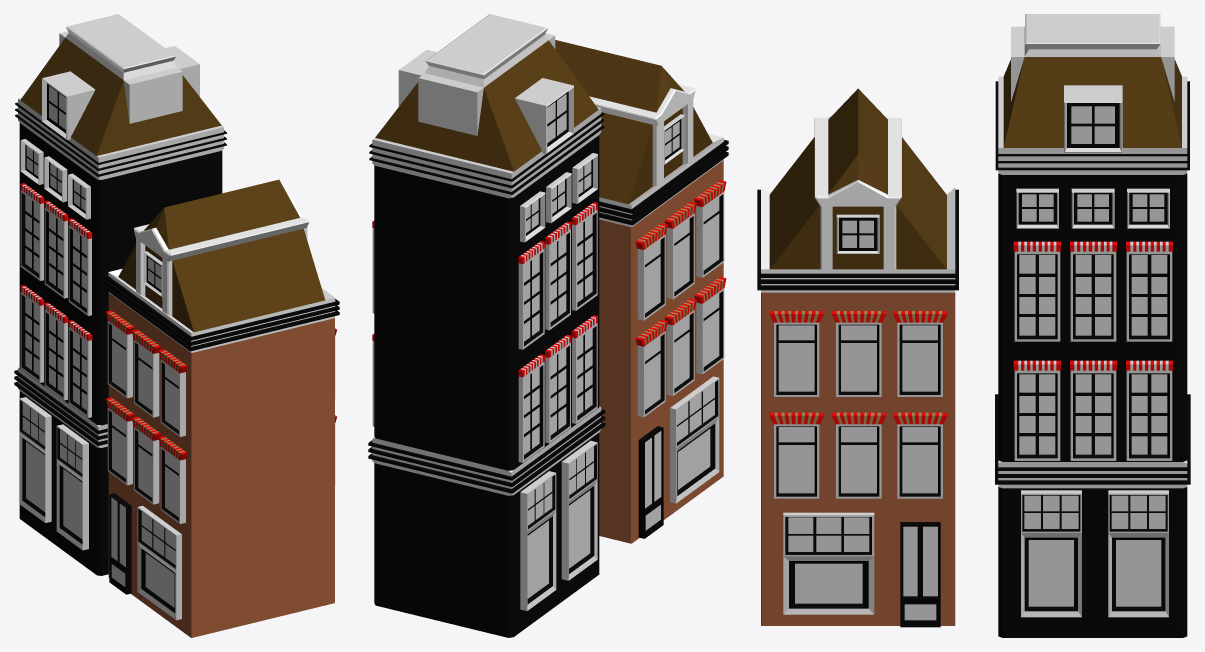
The model's file is CanalHouses.fbx.
3 views of the same model, side by side, from view 1: azimuth 30°, elevation 25°; view 2: azimuth 150°, elevation 25°; view 3: azimuth 270°, elevation 25° (orthographic). The views are drawn at different scales.
Visible parts, largest first — view 1: House 2, House 1; view 2: House 1, House 2; view 3: House 1, House 2.
Boxes of the visible parts, <box> form: House 2: <box>104,179,339,637</box>; House 1: <box>14,14,226,575</box>; House 1: <box>368,14,605,637</box>; House 2: <box>555,40,728,543</box>; House 1: <box>995,14,1190,637</box>; House 2: <box>757,88,958,627</box>.
Bounding box in the file's own units: 577 × 1744 × 1193.
